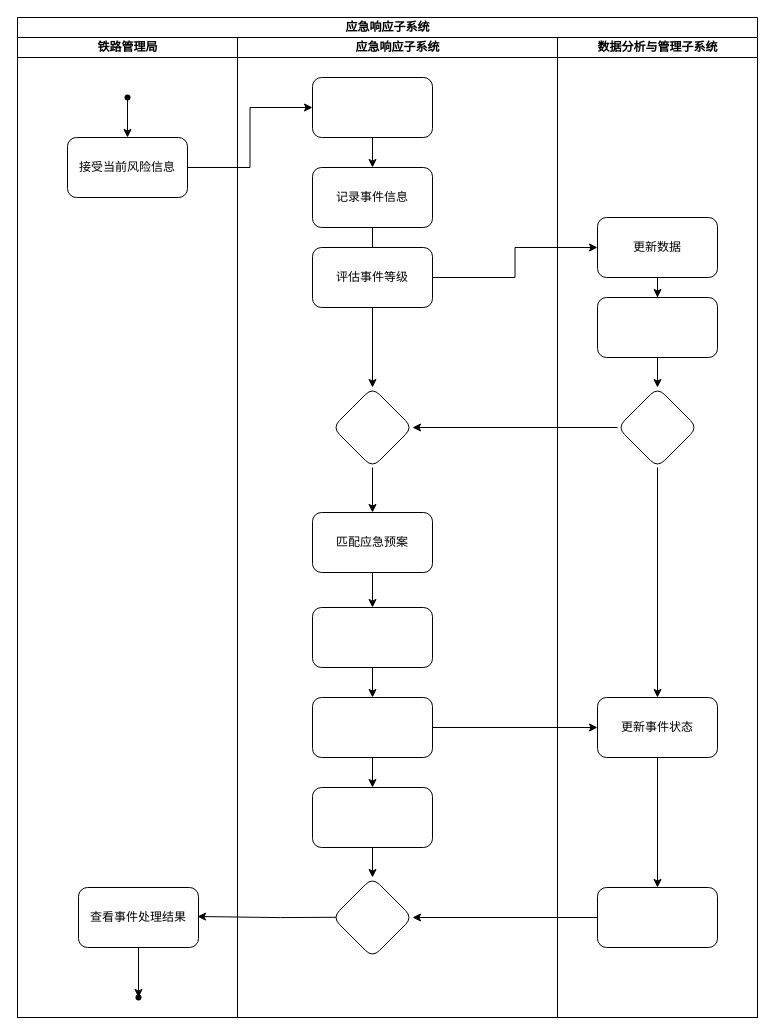
The diagram is 775 pixels wide and 1035 high, and some of its shapes have lost their labels. Each missing label, with the centre of its shape:
"储存记录事件" belongs at point 657,327.
"分析应急响应效果" belongs at point 657,917.
"执行应急方案" belongs at point 372,727.
"接受事件信息" belongs at point 372,107.
"生成事件报告" belongs at point 372,817.
"调度应急资源" belongs at point 372,637.
